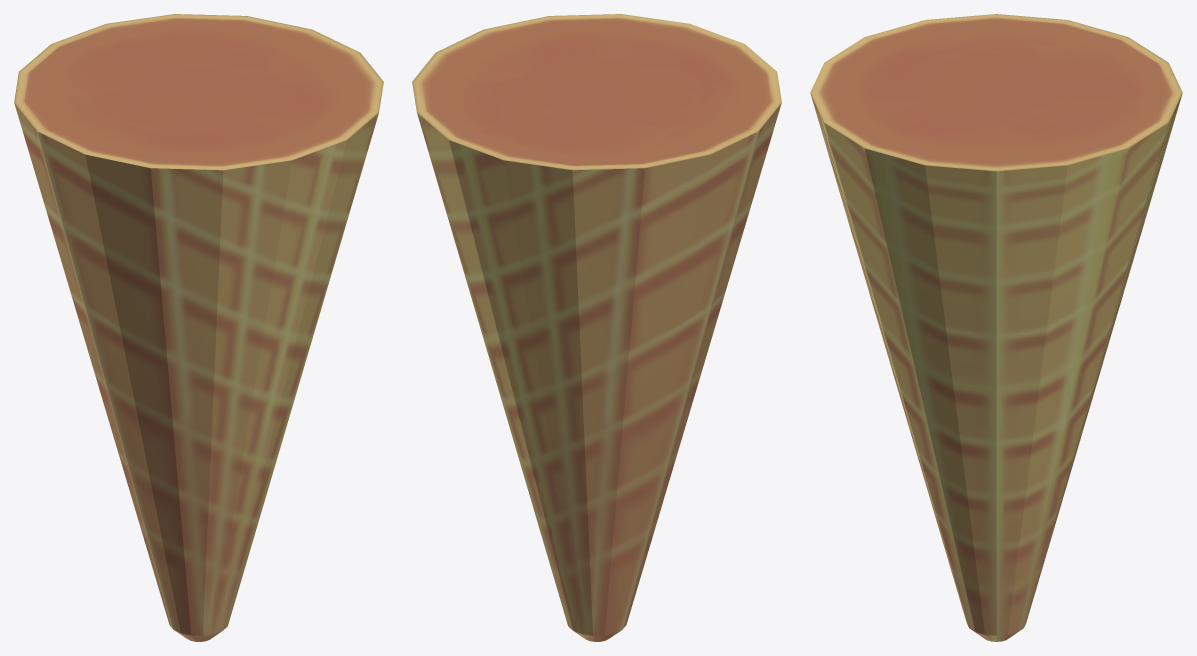
The model's file is cucurucho_1.fbx.
3 renders of one model, left to right at view 1: azimuth 30°, elevation 25°; view 2: azimuth 150°, elevation 25°; view 3: azimuth 270°, elevation 25°, orthographic.
Visible parts, largest first — view 1: Cylinder; view 2: Cylinder; view 3: Cylinder.
Boxes of the visible parts, left/top/right/bottom form: Cylinder: left=14, top=14, right=383, bottom=641; Cylinder: left=412, top=14, right=781, bottom=641; Cylinder: left=810, top=14, right=1182, bottom=641.
Size of the model in its own units: 127 by 205 by 127.
Materials: 1 (1 with a texture image).
